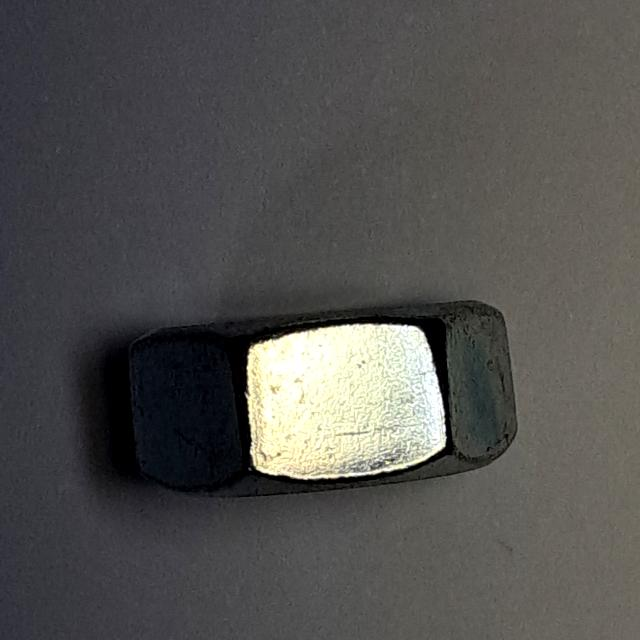Side_Excellent: (108, 290, 530, 514)
